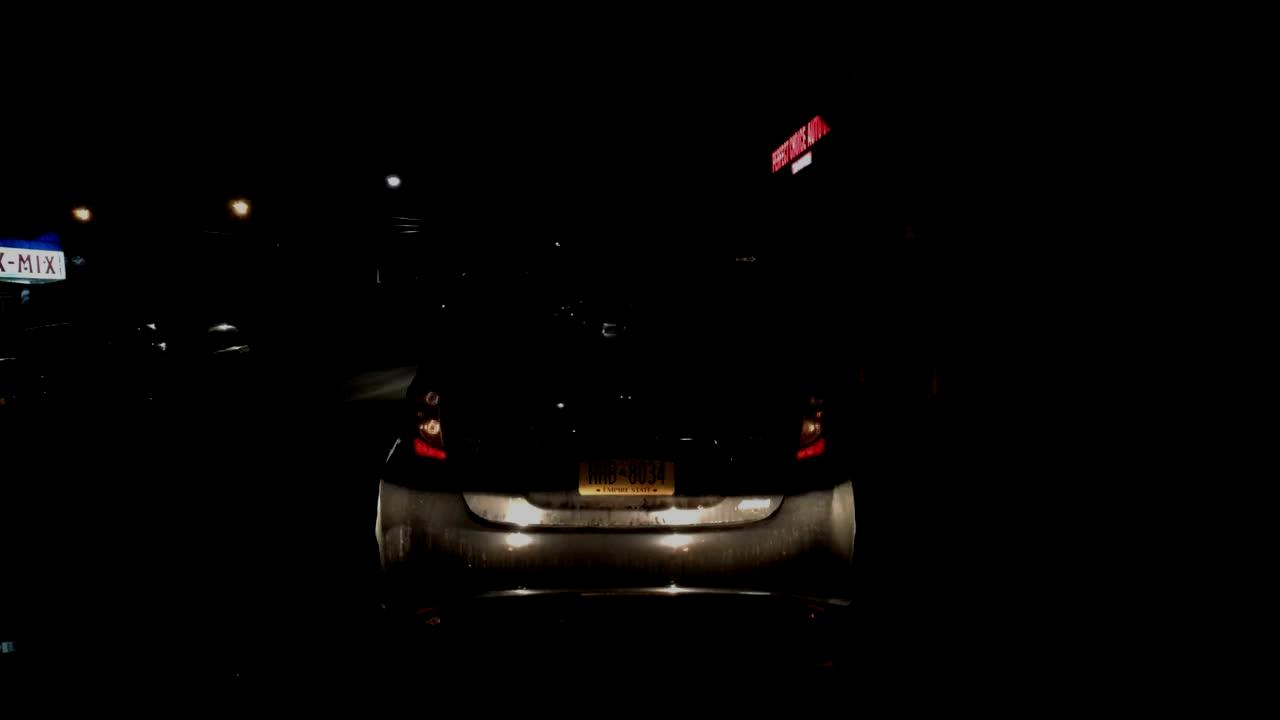Nissan: (603, 367, 651, 412)
